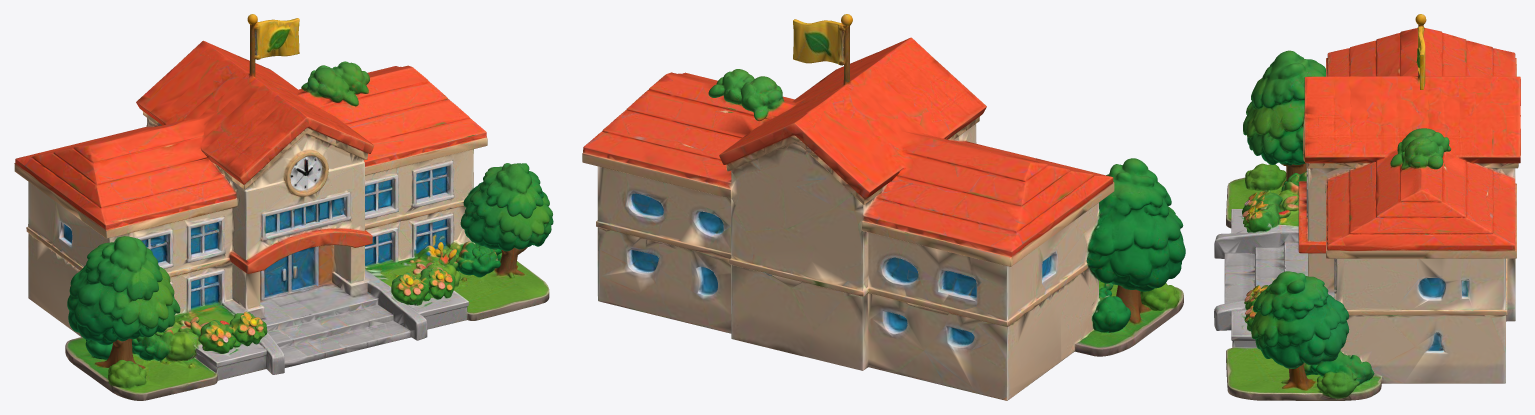
Rendered from school.glb.
The picture shows the model from 3 angles, left to right: view 1: azimuth 30°, elevation 25°; view 2: azimuth 150°, elevation 25°; view 3: azimuth 270°, elevation 25°; orthographic projection. The views are drawn at different scales.
Bounding box in the file's own units: 1.9 × 1.04 × 1.04.
1 material, 1 textured.
